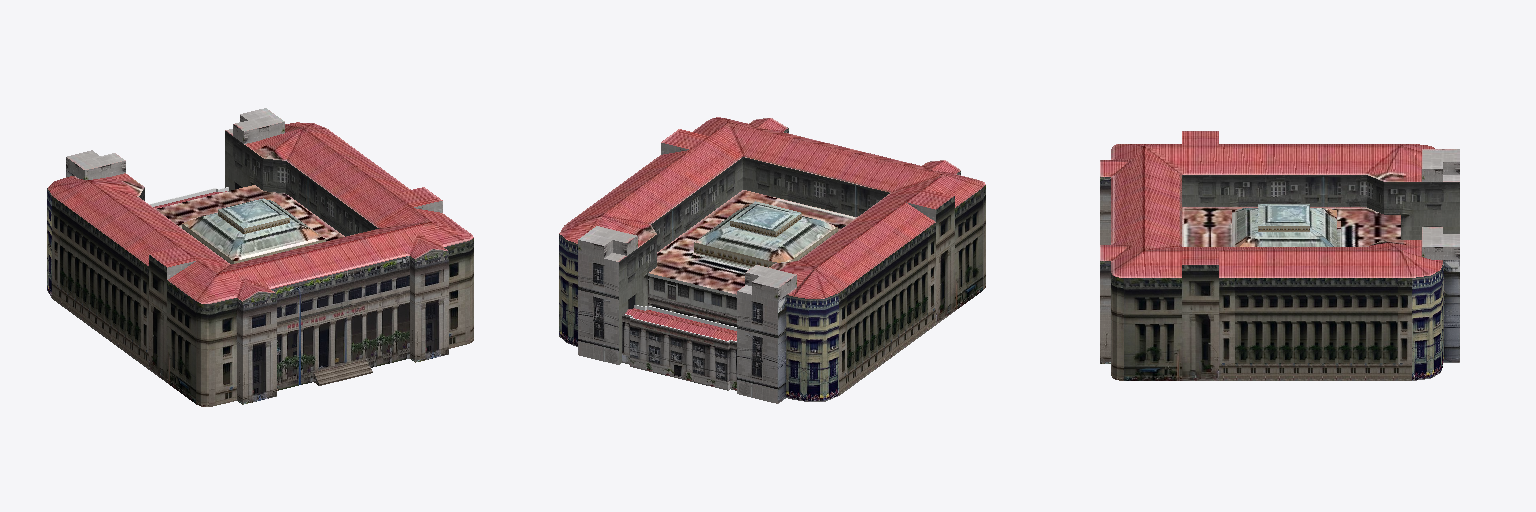
3 renders of one model, left to right at view 1: azimuth 30°, elevation 25°; view 2: azimuth 150°, elevation 25°; view 3: azimuth 270°, elevation 25°, orthographic.
Visible parts, largest first — view 1: NganHangNhaNuocVietNam; view 2: NganHangNhaNuocVietNam; view 3: NganHangNhaNuocVietNam.
Part boxes in pixels (left/top/right/bottom): NganHangNhaNuocVietNam: left=47, top=108, right=473, bottom=406; NganHangNhaNuocVietNam: left=559, top=117, right=985, bottom=403; NganHangNhaNuocVietNam: left=1100, top=131, right=1459, bottom=380.
Size of the model in its own units: 76.4 by 30.65 by 86.5.
1 materials, 1 textured.